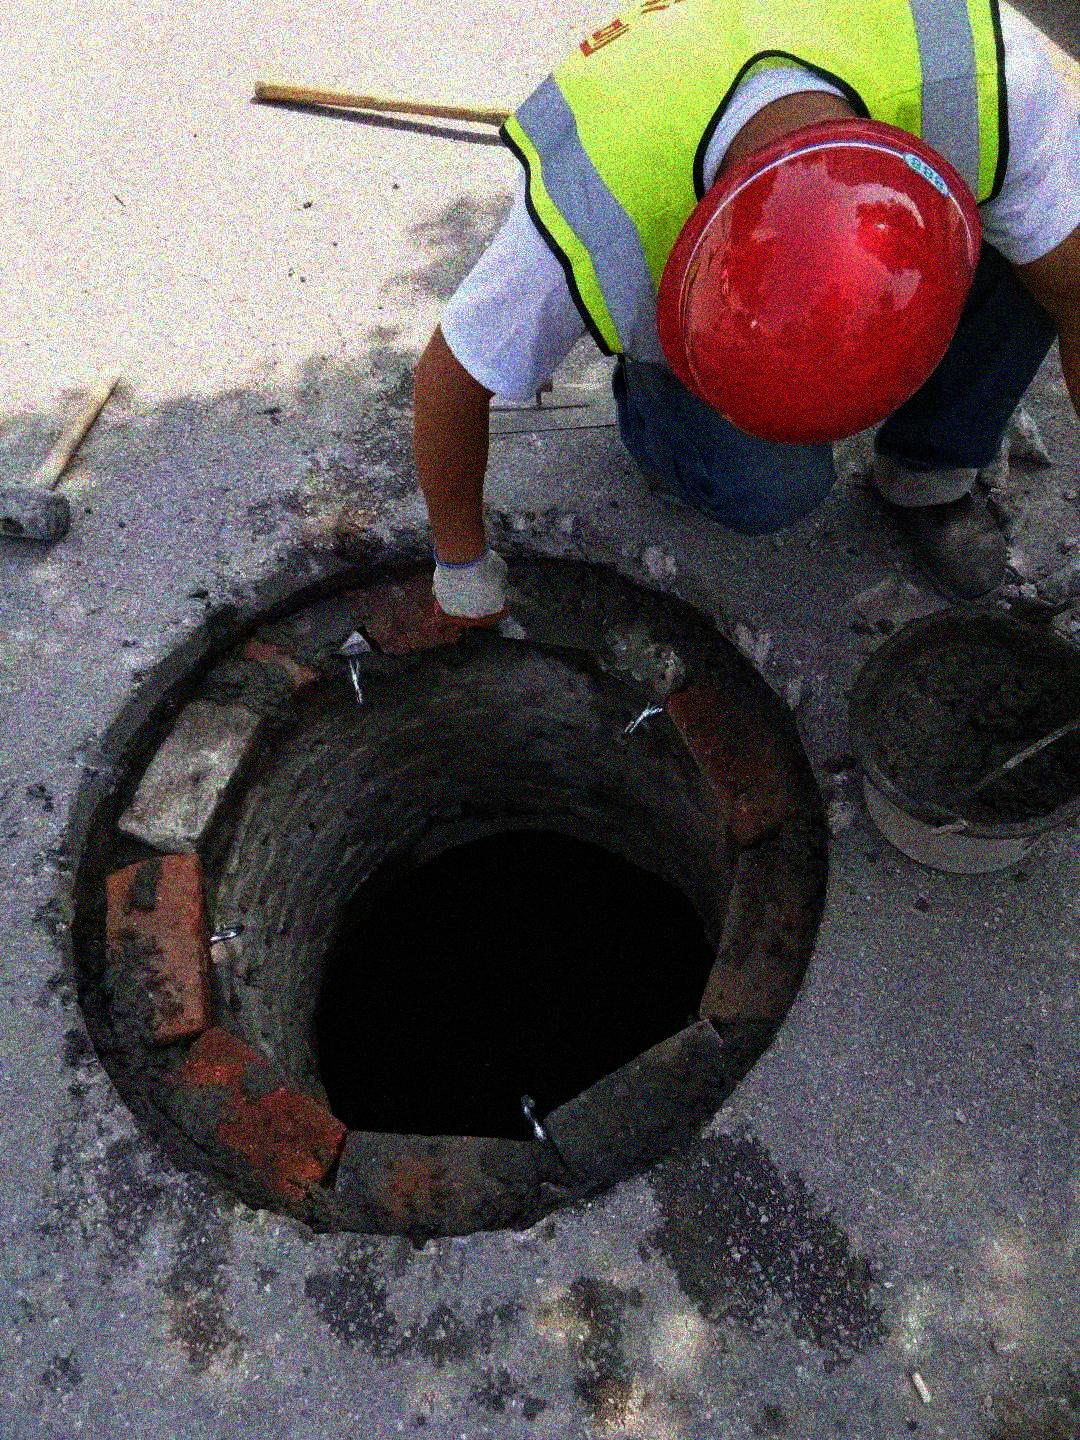helmet: (650, 87, 987, 438)
